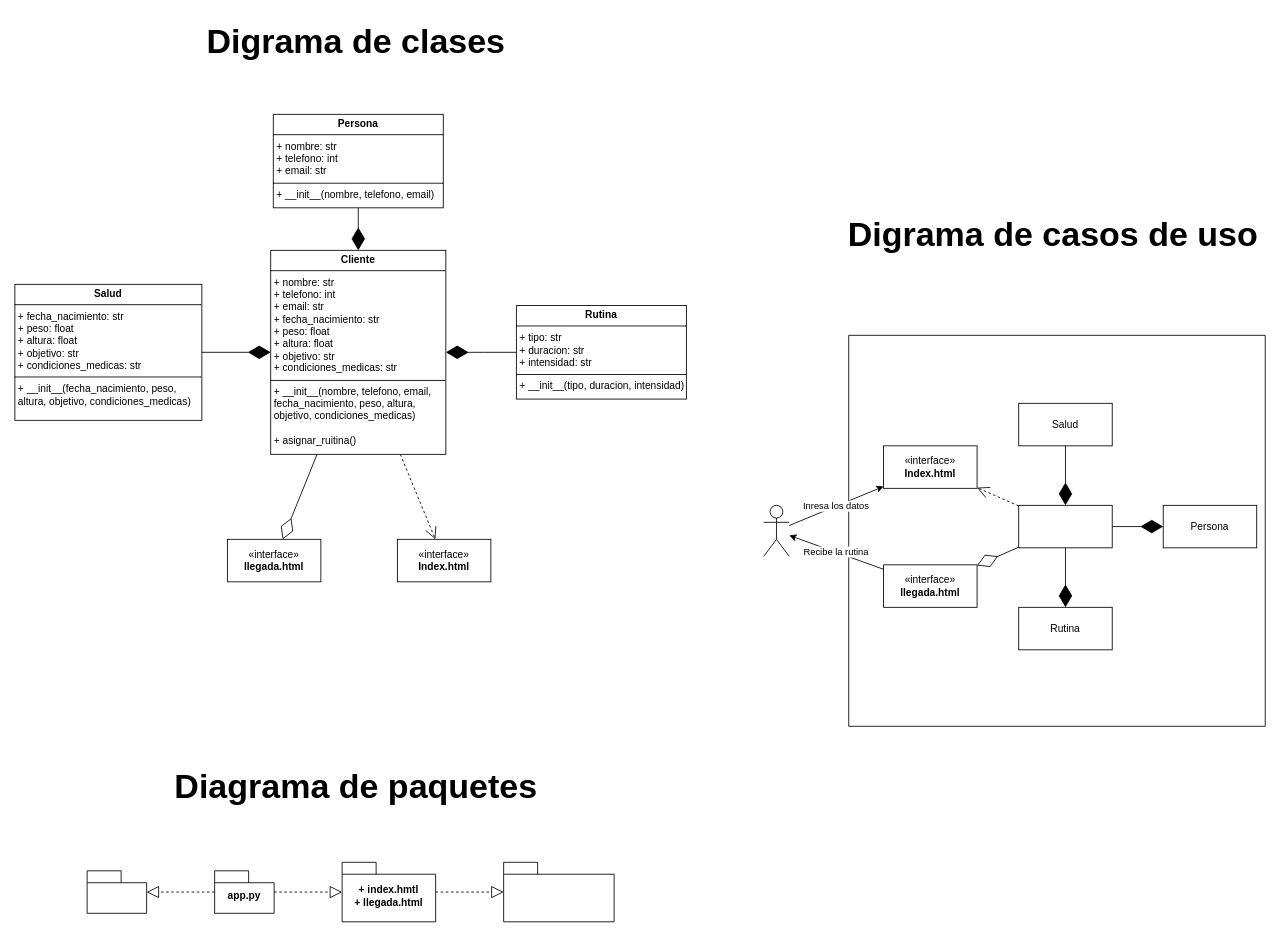
Image size: 1280x937. Some labels were removed from this diagram. Each missing label, with the centre of its shape:
+ estiloIndex.css + estiloLlegada.css: point (558, 891)
Cliente: point (1065, 526)
Entrenador: point (776, 530)
objetos.py: point (116, 891)
